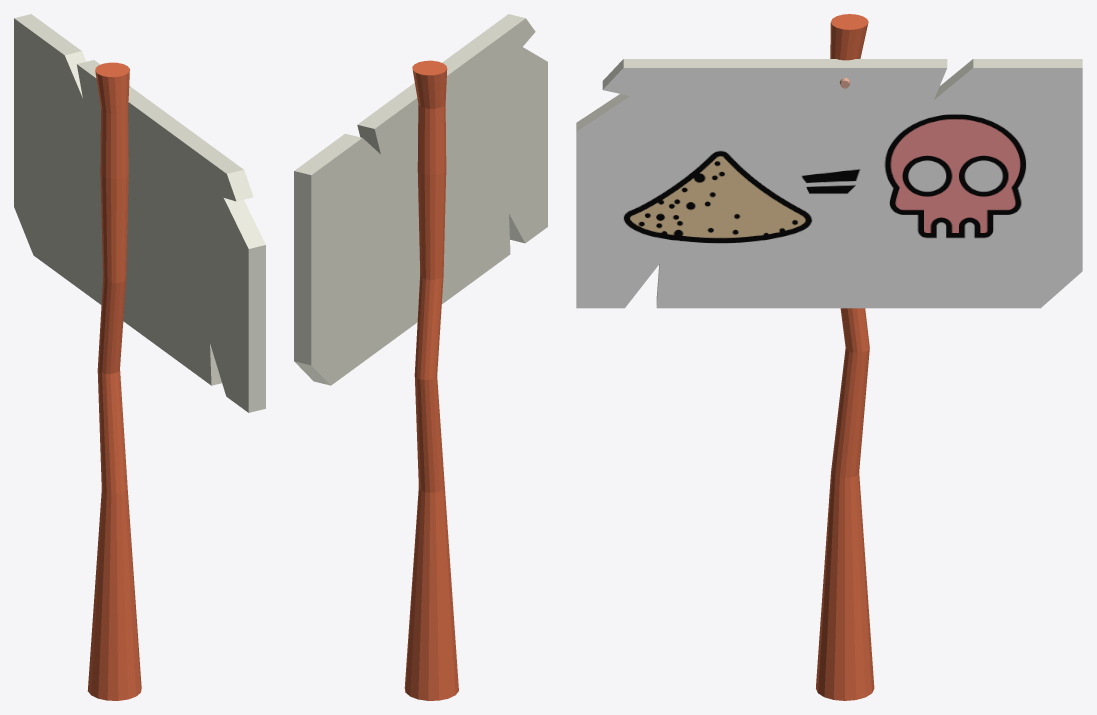
File: sand_death.fbx
The picture shows the model from 3 angles, left to right: view 1: azimuth 30°, elevation 25°; view 2: azimuth 150°, elevation 25°; view 3: azimuth 270°, elevation 25°; orthographic projection. The views are drawn at different scales.
Visible parts, largest first — view 1: Cube.002, Cylinder.001; view 2: Cube.002, Cylinder.001; view 3: Cube.002, Cylinder.001.
Boxes of the visible parts, x1,y1,x2,y2 form: Cube.002: [14, 14, 265, 412]; Cylinder.001: [87, 62, 141, 700]; Cube.002: [294, 14, 547, 385]; Cylinder.001: [404, 60, 458, 700]; Cube.002: [576, 59, 1082, 308]; Cylinder.001: [816, 14, 874, 700].
Bounding box in the file's own units: 0.5444 × 5.94 × 4.08.
Materials: 4 (1 with a texture image).
